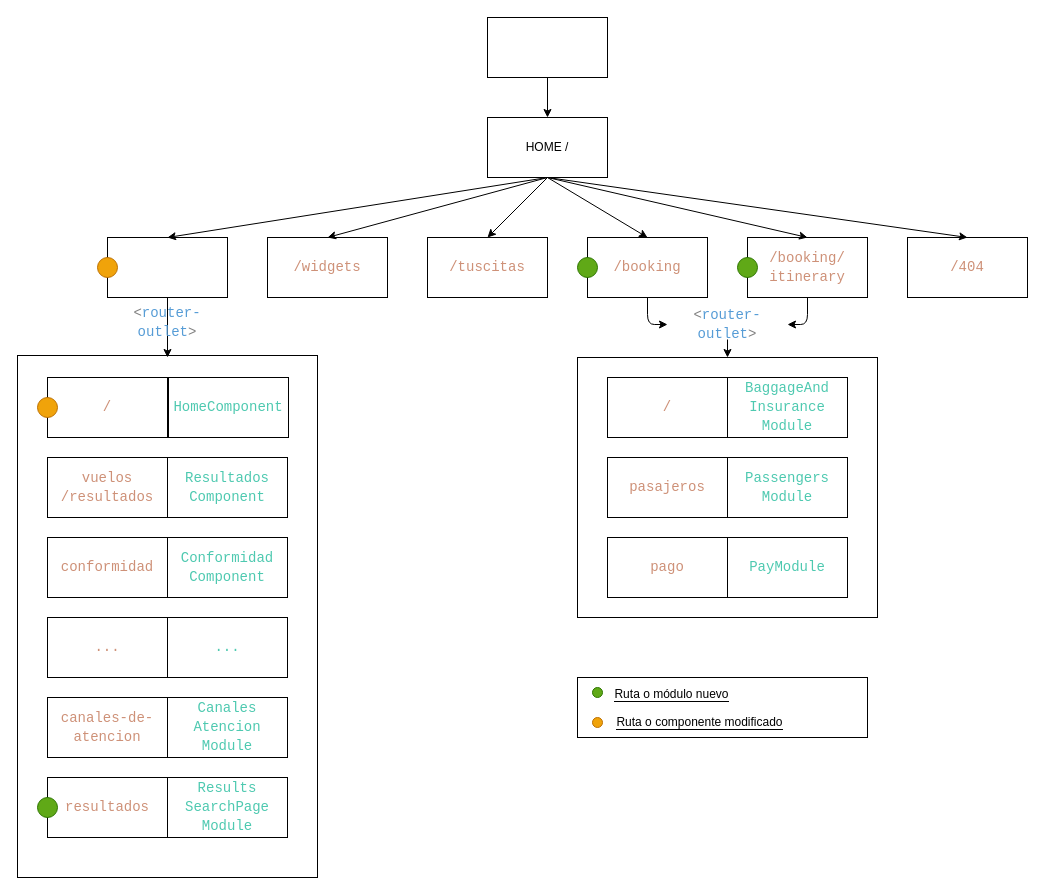
Some shapes in this 1045 by 895 pixel diagram are drawn without their labels. Here are the shapes that lost their labels. From the top down, the box of each, then its label:
(486, 16, 608, 78): APP
(106, 236, 228, 298): HomePage Component
